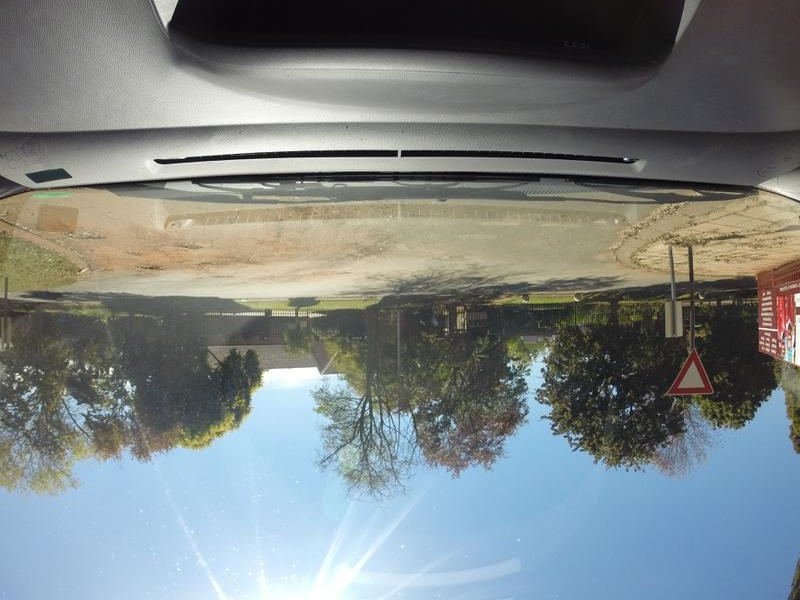pothole: (64, 217, 99, 245), (164, 235, 201, 254), (193, 259, 222, 273), (136, 260, 163, 274)
